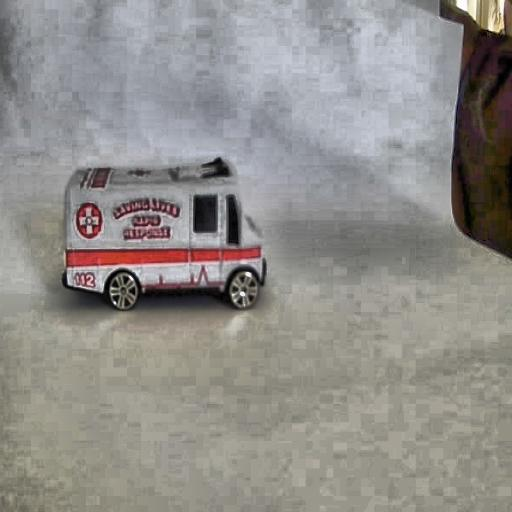ambulance: (60, 156, 266, 311)
